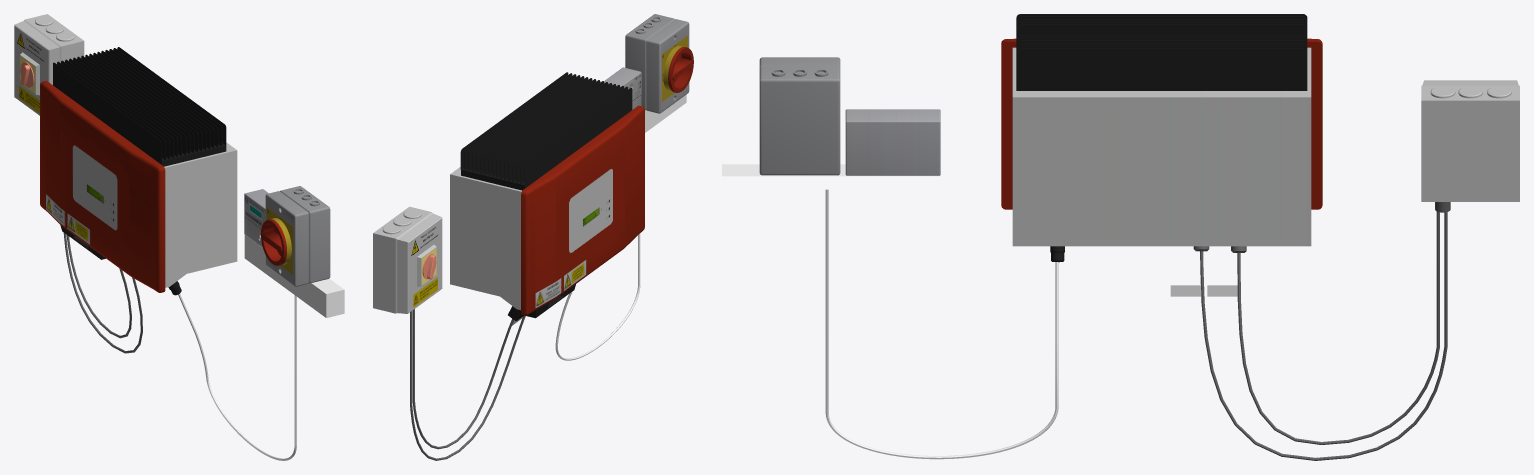
File: Inverter.glb
3 views of the same model, side by side, from view 1: azimuth 30°, elevation 25°; view 2: azimuth 150°, elevation 25°; view 3: azimuth 270°, elevation 25° (orthographic). The views are drawn at different scales.
Parts seen in each view (by area): view 1: Inverter, AC switch isolator, DC switch isolator, Panel Box, Cable - AC, PV_generation_meter, DC Cable Female, DC Cable Male; view 2: Inverter, DC switch isolator, AC switch isolator, DC Cable Female, DC Cable Male, PV_generation_meter, Cable - AC, Panel Box; view 3: Inverter, DC switch isolator, AC switch isolator, PV_generation_meter, DC Cable Female, Cable - AC, DC Cable Male, Panel Box.
Part boxes in pixels (x1,y1,x2,y2): Inverter: (40, 47, 237, 292); AC switch isolator: (261, 186, 330, 286); DC switch isolator: (14, 14, 84, 115); Panel Box: (244, 234, 344, 317); Cable - AC: (168, 281, 296, 460); PV_generation_meter: (244, 189, 268, 247); DC Cable Female: (63, 232, 142, 353); DC Cable Male: (66, 235, 131, 338); Inverter: (450, 72, 644, 320); DC switch isolator: (373, 206, 442, 313); AC switch isolator: (625, 14, 693, 113); DC Cable Female: (410, 311, 525, 460); DC Cable Male: (412, 309, 522, 449); PV_generation_meter: (604, 67, 641, 109); Cable - AC: (555, 233, 640, 360); Panel Box: (645, 94, 686, 132); Inverter: (1001, 14, 1322, 246); DC switch isolator: (1421, 80, 1519, 212); AC switch isolator: (759, 57, 840, 175); PV_generation_meter: (845, 109, 940, 175); DC Cable Female: (1170, 212, 1447, 460); Cable - AC: (825, 188, 1064, 459); DC Cable Male: (1207, 211, 1439, 444); Panel Box: (722, 164, 940, 176).
Bounding box in the file's own units: 0.161 × 0.5377 × 0.9586.
Materials: 16 (6 with a texture image).
